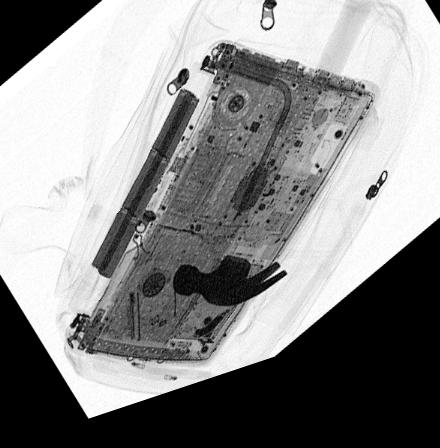Hammer: (172, 21, 373, 321)
